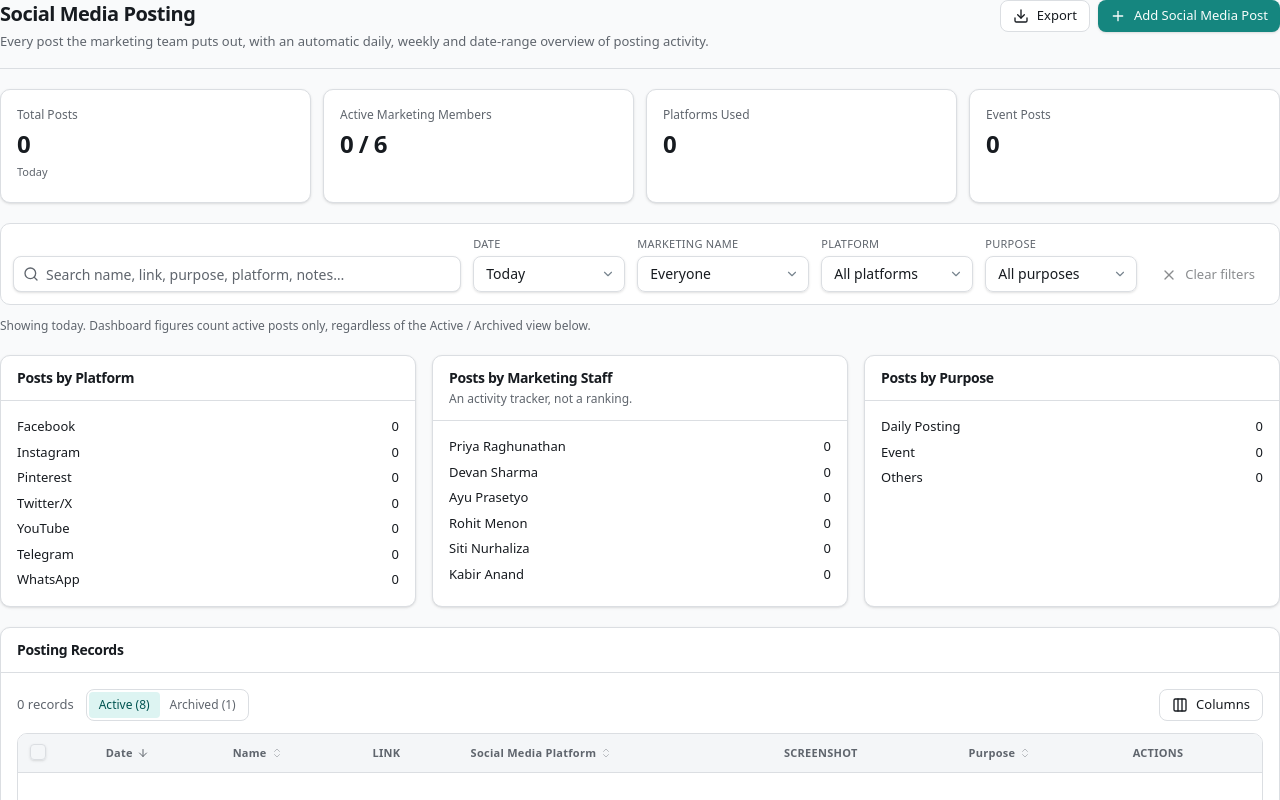
Test: Social Media Posting — create, archive, restore › rejects a post link that is not a valid URL
Click the button "Add Social Media Post" at (1189,16), box [1098,0,1279,32]
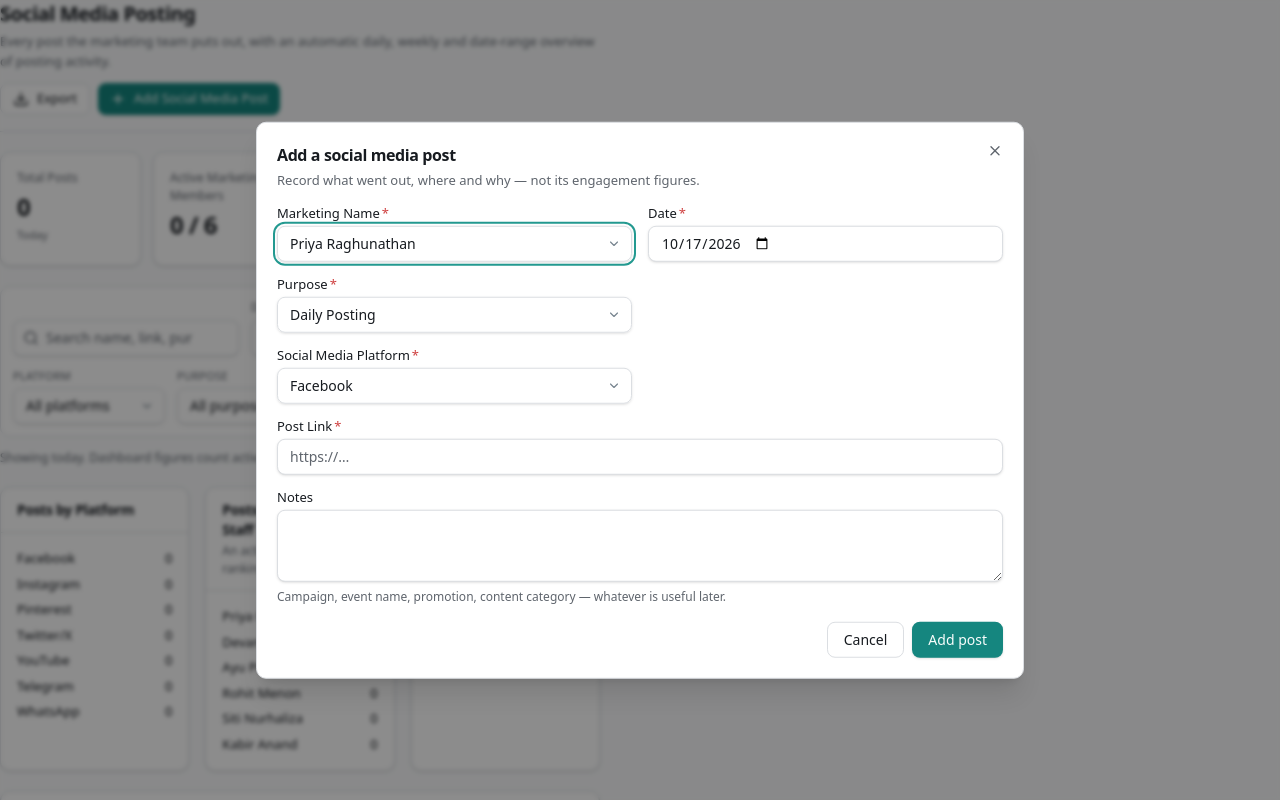
Type "not-a-url" into the field labelled "Post Link*" at (640,456), box [277,438,1003,474]
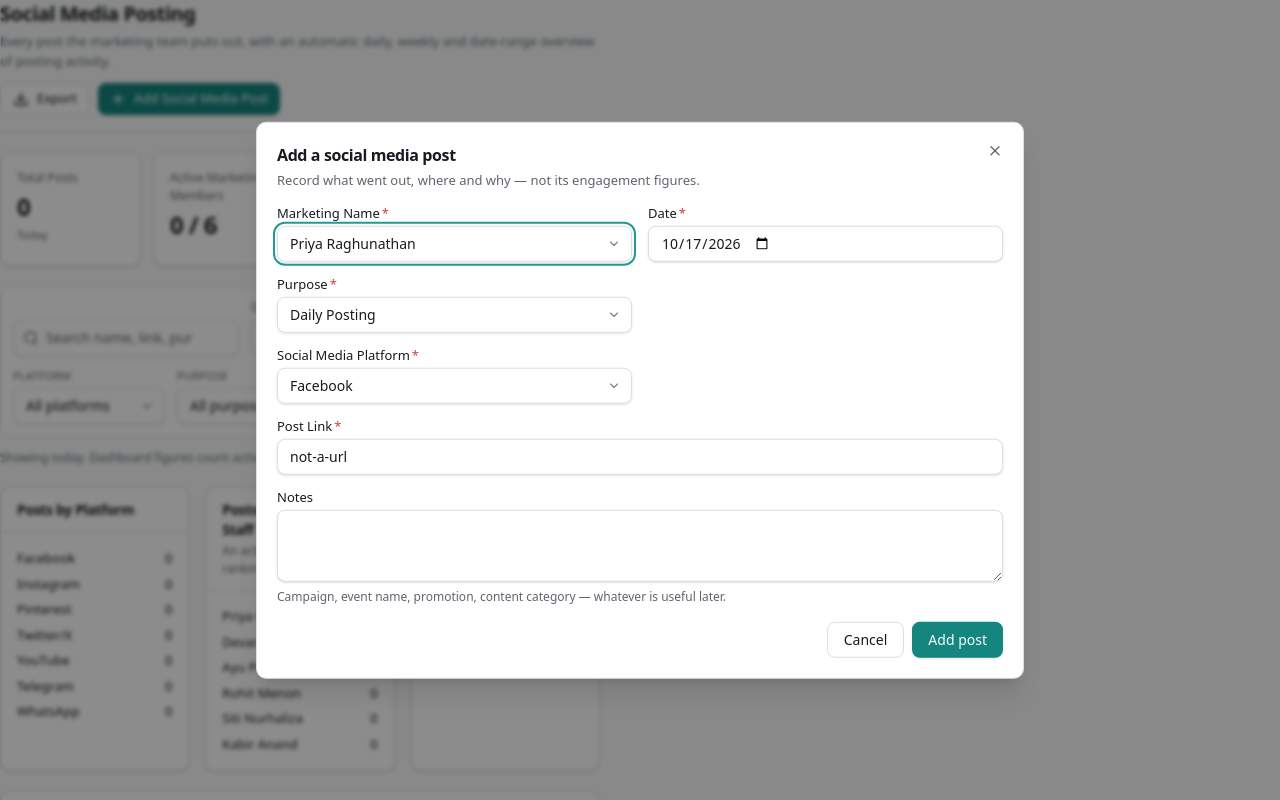
Click the button "Add post" at (958,639), box [912,621,1003,657]
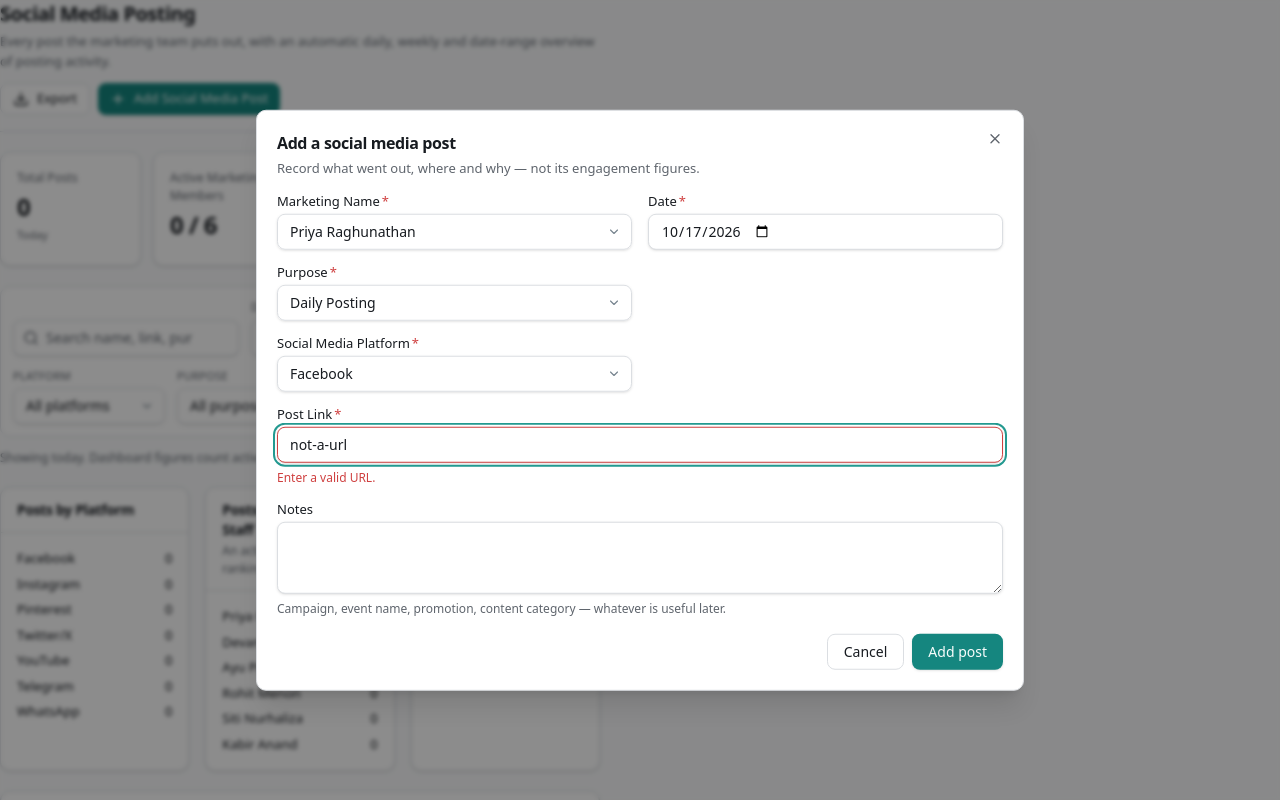
Result: the text "Enter a valid URL." is shown at [277,468,375,485]
